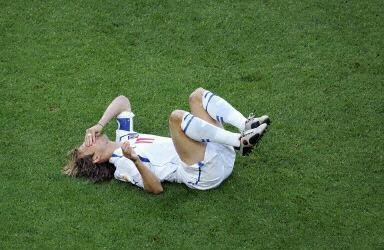falling: (60, 82, 269, 198)
